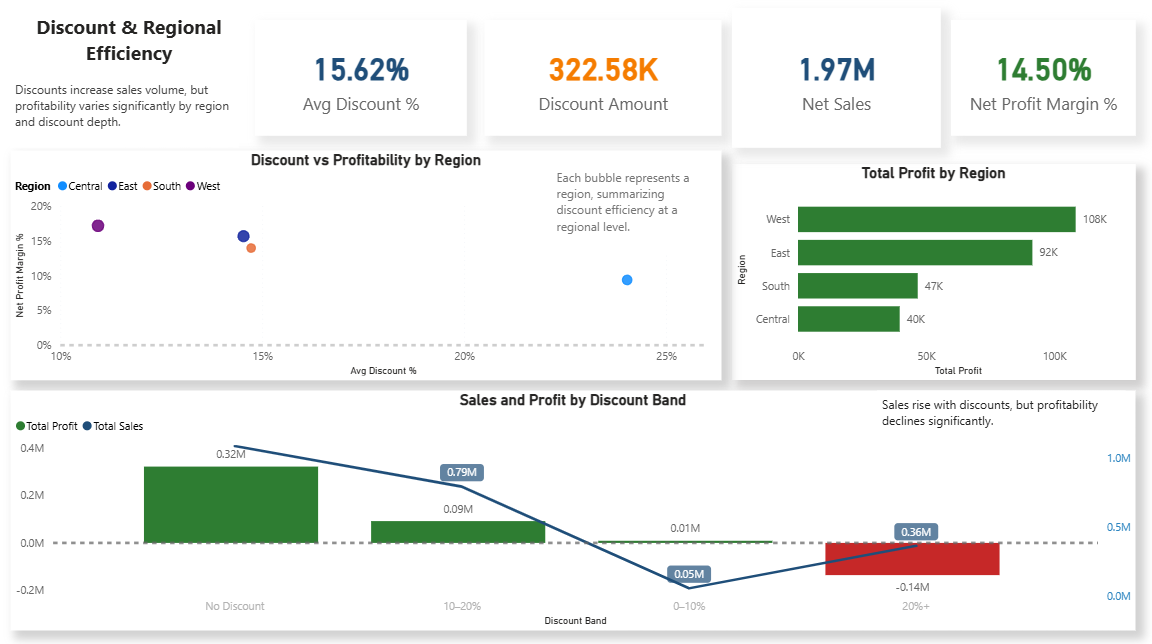

This screenshot's page, from the dashboard's own definition file:
{"tool":"powerbi","page":{"name":"Discount & Regional Efficiency","canvas":[1280,720],"ordinal":3},"visuals":[{"type":"clusteredBarChart","fields":{"Category":["superstore_clean_data.Region"],"Y":["superstore_clean_data.Total Profit"]},"box":[813.3,183.3,448.3,240],"z":2000},{"type":"card","fields":{"Values":["superstore_clean_data.Avg Discount %"]},"box":[283.3,23.3,235,128.3],"z":3000},{"type":"card","fields":{"Values":["superstore_clean_data.Discount Amount"]},"box":[538.3,23.3,263.3,128.3],"z":4000},{"type":"card","fields":{"Values":["superstore_clean_data.Net Sales"]},"box":[813.3,10,231.7,155],"z":5000},{"type":"card","fields":{"Values":["superstore_clean_data.Net Profit Margin %"]},"box":[1056.7,23.3,205,128.3],"z":6000},{"type":"scatterChart","title":"Discount vs Profitability by Region","fields":{"X":["superstore_clean_data.Avg Discount %"],"Y":["superstore_clean_data.Net Profit Margin %"],"Size":["superstore_clean_data.Total Sales"],"Series":["superstore_clean_data.Region"]},"box":[11.7,168.3,790,255],"z":7000},{"type":"textbox","box":[613.3,183.3,161.7,98.3],"z":8000},{"type":"lineClusteredColumnComboChart","title":"Sales and Profit by Discount Band","fields":{"Category":["superstore_clean_data.Discount Band"],"Y":["superstore_clean_data.Total Profit"],"Y2":["superstore_clean_data.Total Sales"]},"box":[11.7,435,1250,266.7],"z":9000},{"type":"textbox","box":[11.7,85,253.3,80],"z":10000},{"type":"textbox","box":[11.7,10,263.3,75],"z":11000},{"type":"textbox","box":[975,435,275,51.7],"z":12000}]}

Visuals, with their boxes in screenshot pixels (x1, y1, x2, y2), scaled from the page's 1280x720 canvas onto the 1152x644 screenshot:
clusteredBarChart - superstore_clean_data.Region x superstore_clean_data.Total Profit: crop(732, 164, 1135, 379)
card - superstore_clean_data.Avg Discount %: crop(255, 21, 466, 136)
card - superstore_clean_data.Discount Amount: crop(484, 21, 721, 136)
card - superstore_clean_data.Net Sales: crop(732, 9, 940, 148)
card - superstore_clean_data.Net Profit Margin %: crop(951, 21, 1136, 136)
"Discount vs Profitability by Region" scatterChart: crop(11, 151, 722, 379)
textbox: crop(552, 164, 698, 252)
"Sales and Profit by Discount Band" lineClusteredColumnComboChart: crop(11, 389, 1136, 628)
textbox: crop(11, 76, 238, 148)
textbox: crop(11, 9, 248, 76)
textbox: crop(878, 389, 1125, 435)
